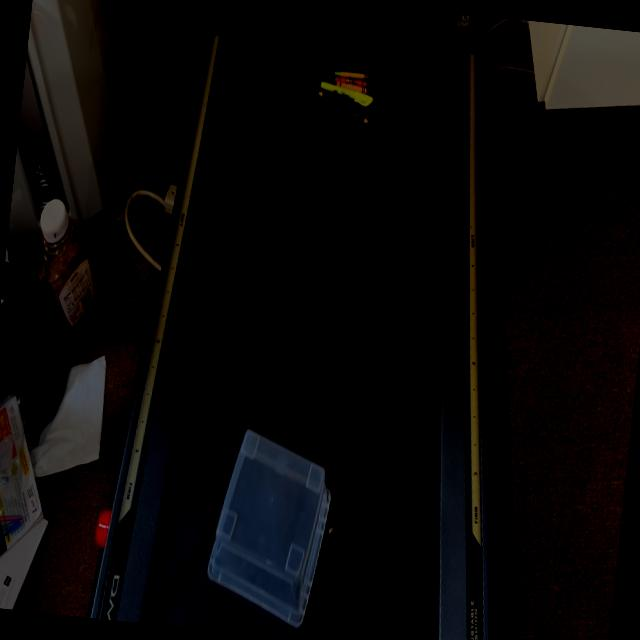Trash: (202, 405, 343, 640), (312, 48, 396, 140)
